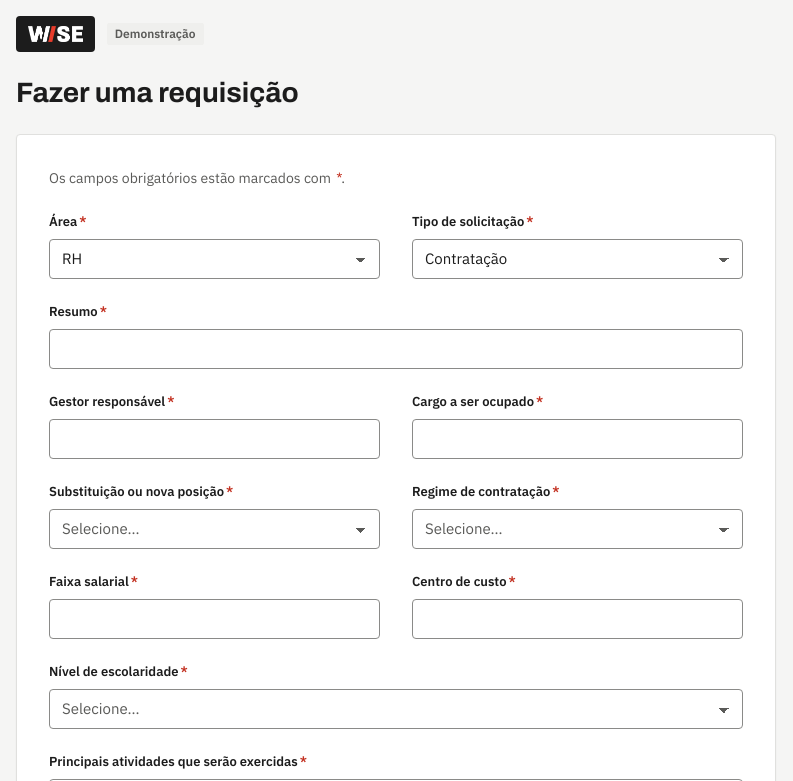
Scenario: Requisição › trocar de Área limpa o tipo e esconde o formulário
Click the dropdown with id "f-area". click: coordinates (72, 258)
box: [49,239,380,279]
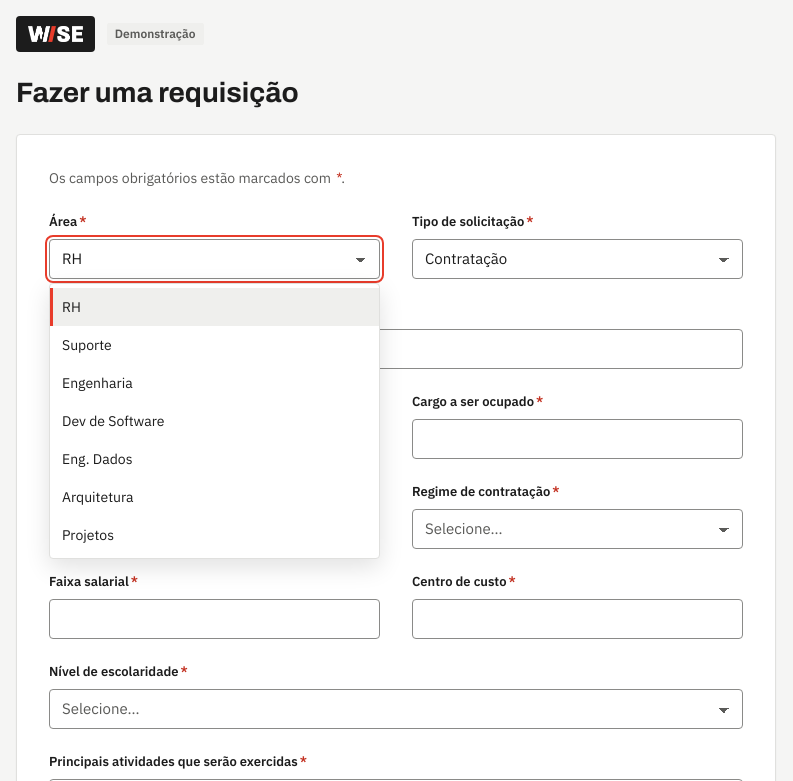
Click the option "Suporte". click: coordinates (87, 345)
box: [62,336,112,354]
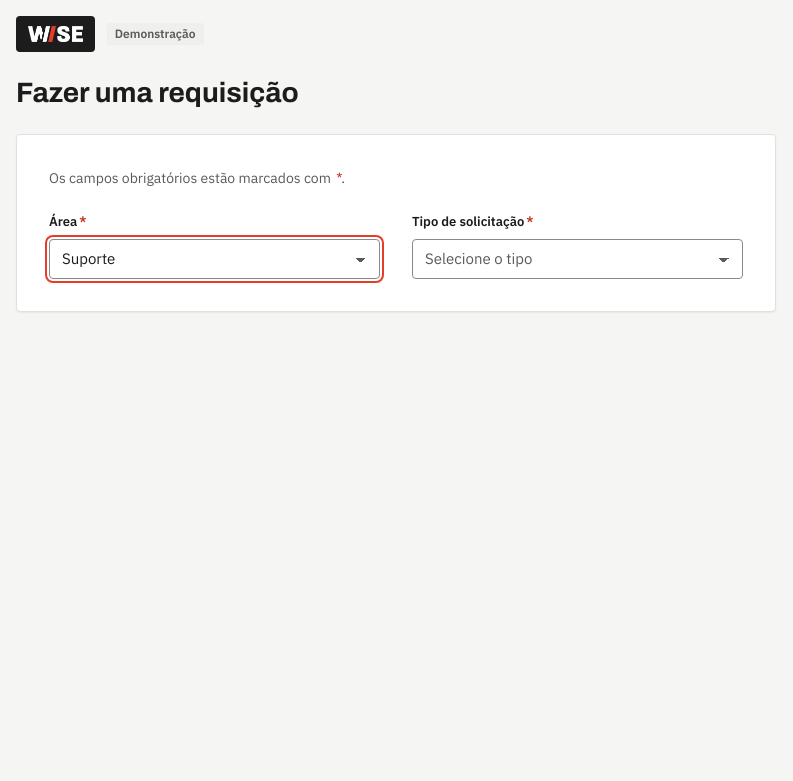
Result: the text "Selecione o tipo" is shown at [425,248,532,270]
